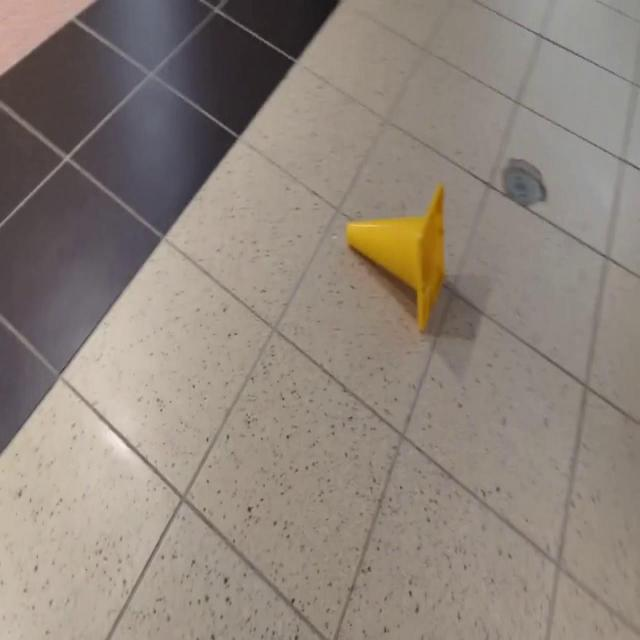frc_cone: (346, 182, 446, 334)
